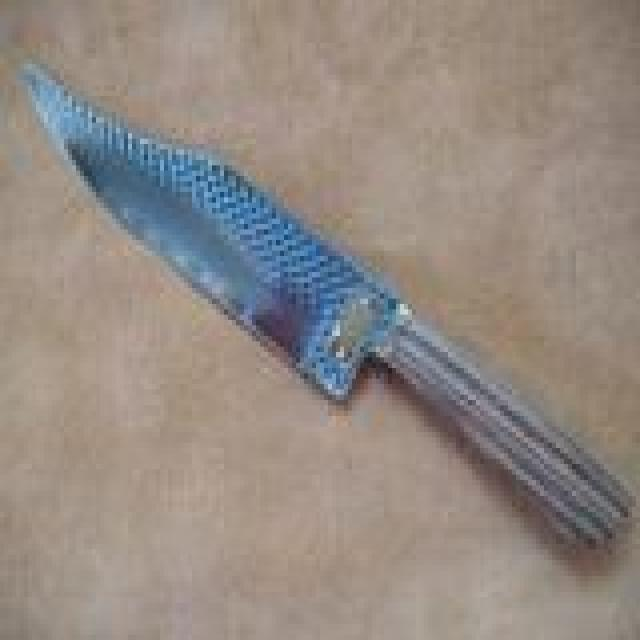Knife: (22, 51, 632, 546)
